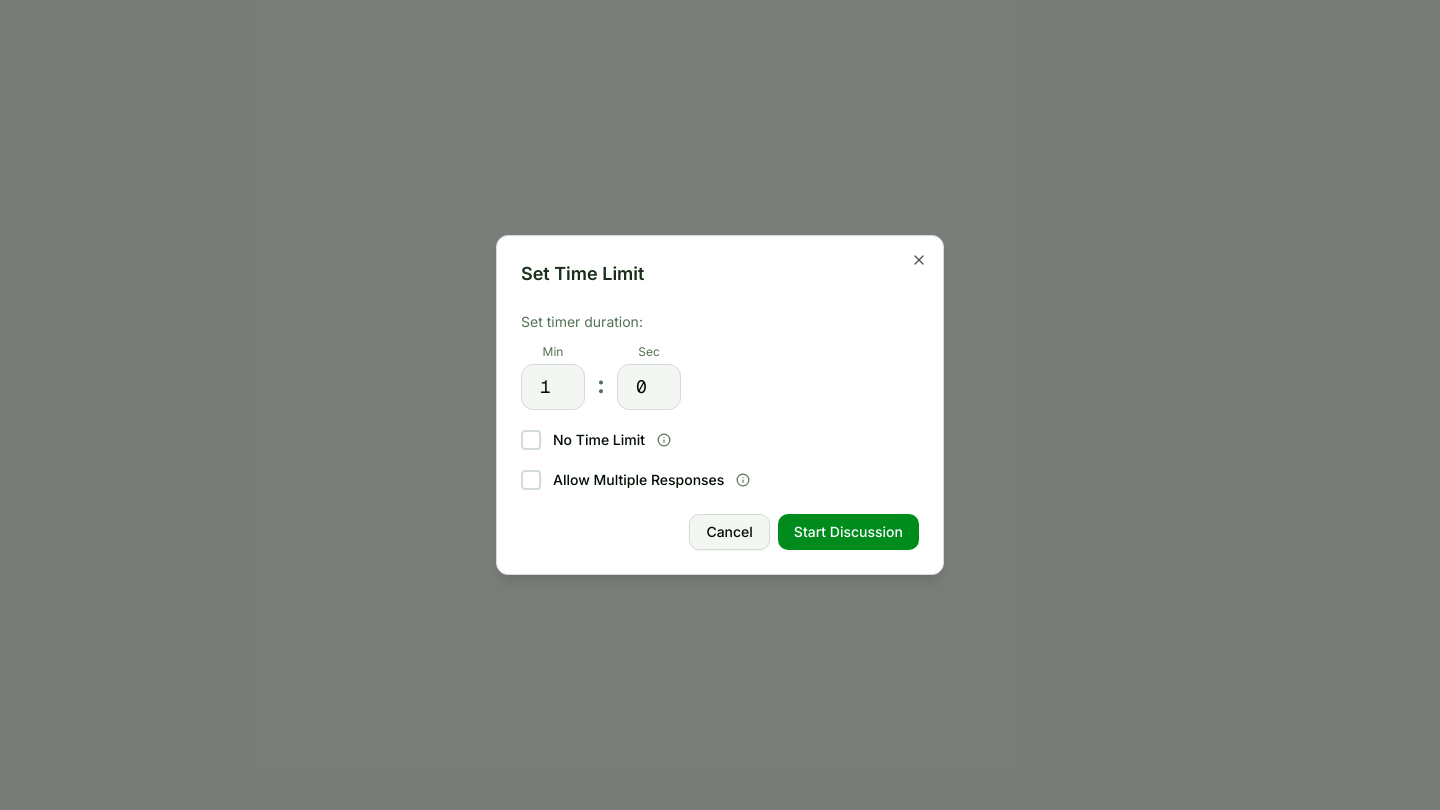
StartDiscussionDialog Multiple Responses [US 1.30] › Toggle interaction › [US 1.30][CT5] success: response limit checkbox appears when Allow Multiple Responses is enabled
Click the checkbox with test id "allow-multiple-responses-checkbox". click: (636, 480)
box: [521,470,750,490]
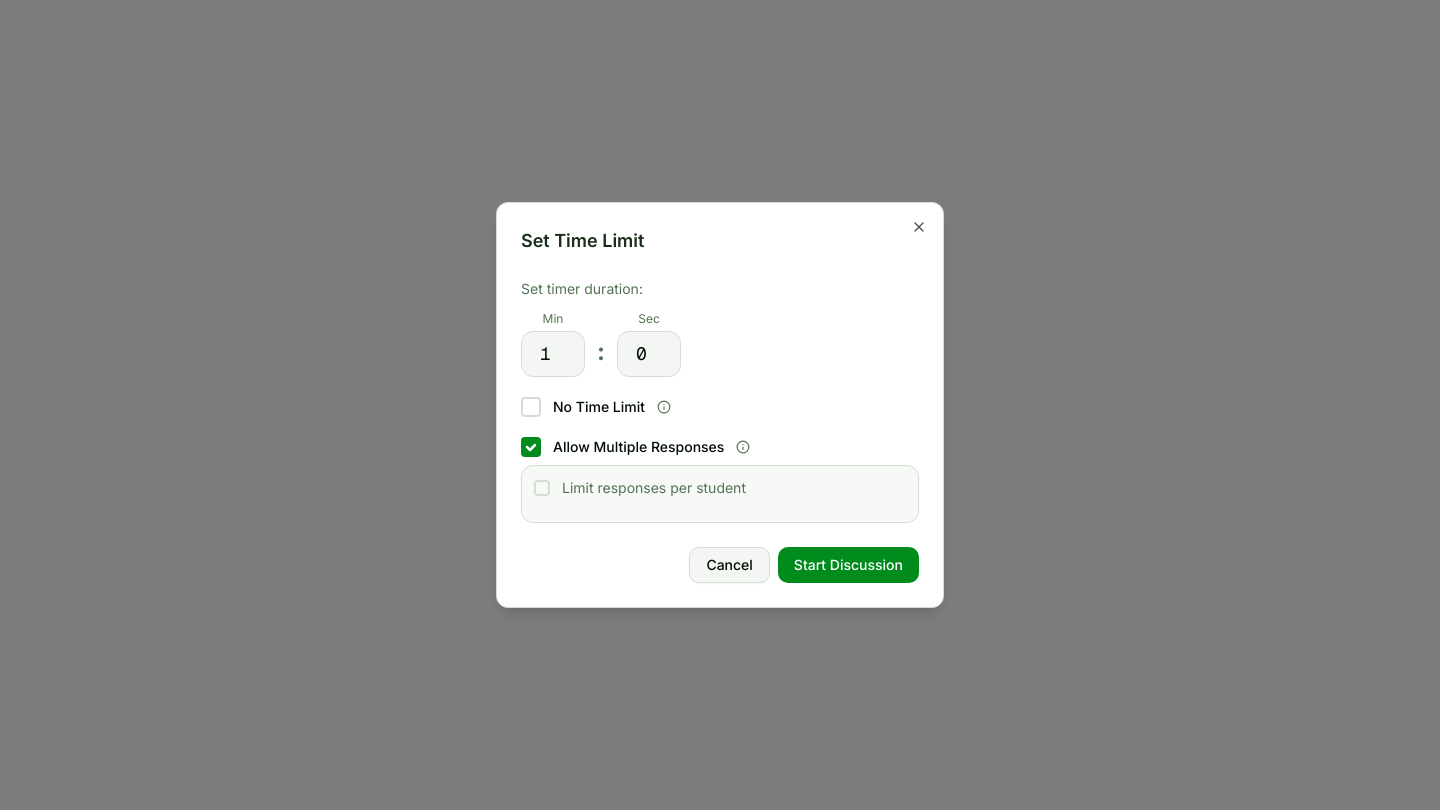
Result: the checkbox with test id "response-limit-checkbox" is shown at [534,479,746,496]
Result: the text "Limit responses per student" is shown at [562,478,746,498]
